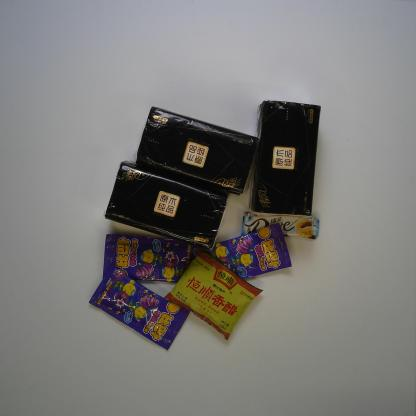Candy: (85, 267, 195, 354), (100, 232, 210, 287), (211, 220, 294, 286)
Chocolate: (240, 209, 323, 240)
Seasoner: (160, 250, 266, 347)
Tissue: (101, 159, 233, 252), (134, 104, 260, 198), (246, 97, 322, 221)
